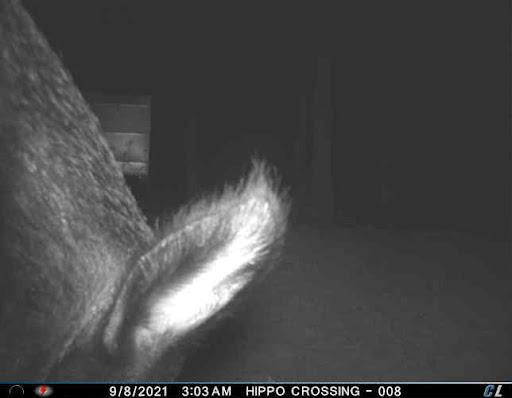Hog: (0, 1, 290, 382)
